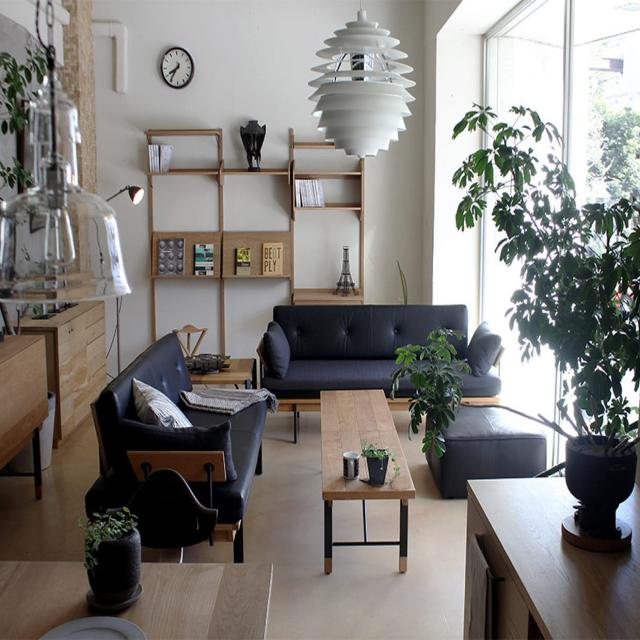vintage desk: (318, 387, 413, 576)
vintage shelf: (142, 124, 365, 304)
vintage sofa: (86, 331, 269, 562), (264, 302, 506, 402)
